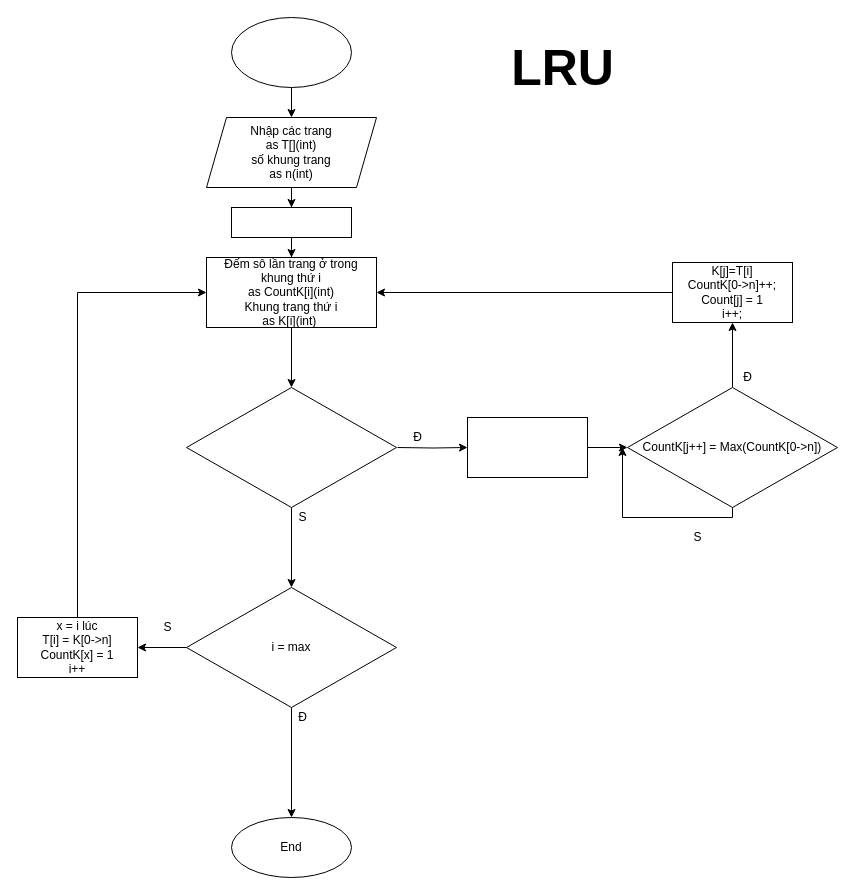
Image size: 855x895. Some labels were removed from this diagram. The box of each missing label's shape, as (x1, y1, x2, y2) in pixels:
i = 0: (230, 206, 352, 238)
Input: (230, 16, 352, 88)
j = 0: (466, 416, 588, 478)
T[i] != K[0->n]: (186, 386, 396, 508)
